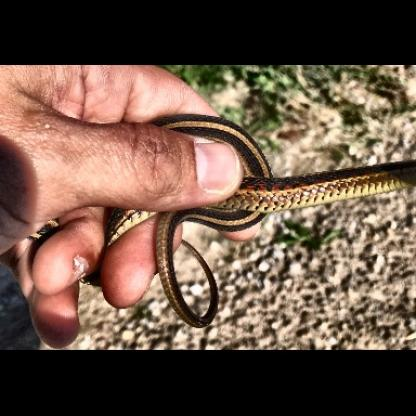Snake: (120, 106, 416, 329)
